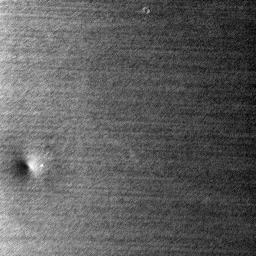dent: (6, 152, 45, 187)
